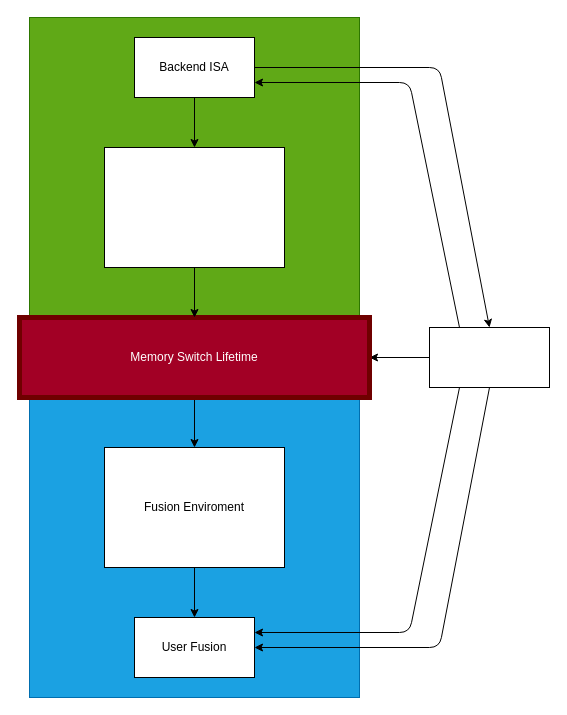
The diagram is 567 pixels wide and 715 high, and some of its shapes have lost their labels. The shapes that lost their labels are listed below. From the top down, each one's box as (x1, y1, x2, y2) in pixels, then its label:
(104, 146, 284, 268): Backend Enviroment
(428, 326, 550, 388): Fusion Core
